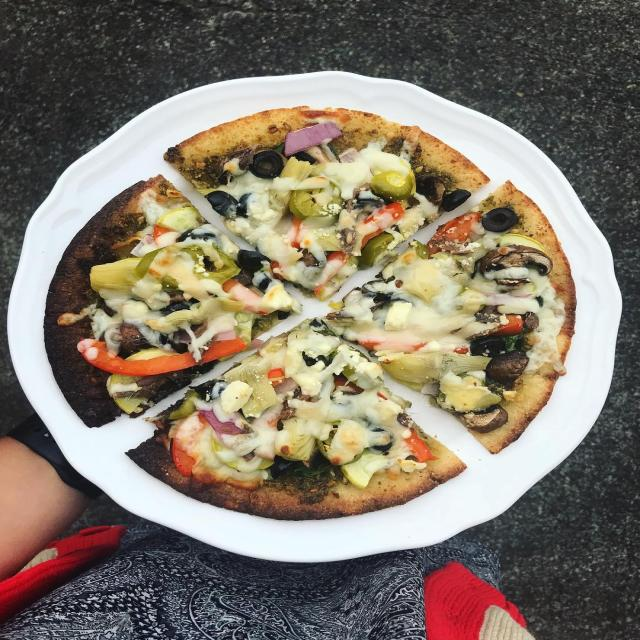black_olives: (204, 189, 242, 221), (251, 150, 283, 178), (482, 207, 518, 231), (238, 249, 270, 273), (472, 338, 504, 356), (446, 189, 468, 210), (236, 192, 251, 216), (179, 229, 215, 239), (418, 175, 435, 193)
mushrooms: (478, 246, 552, 278), (488, 352, 527, 384), (465, 408, 510, 429), (429, 179, 443, 201)
pizza: (42, 108, 575, 521)
